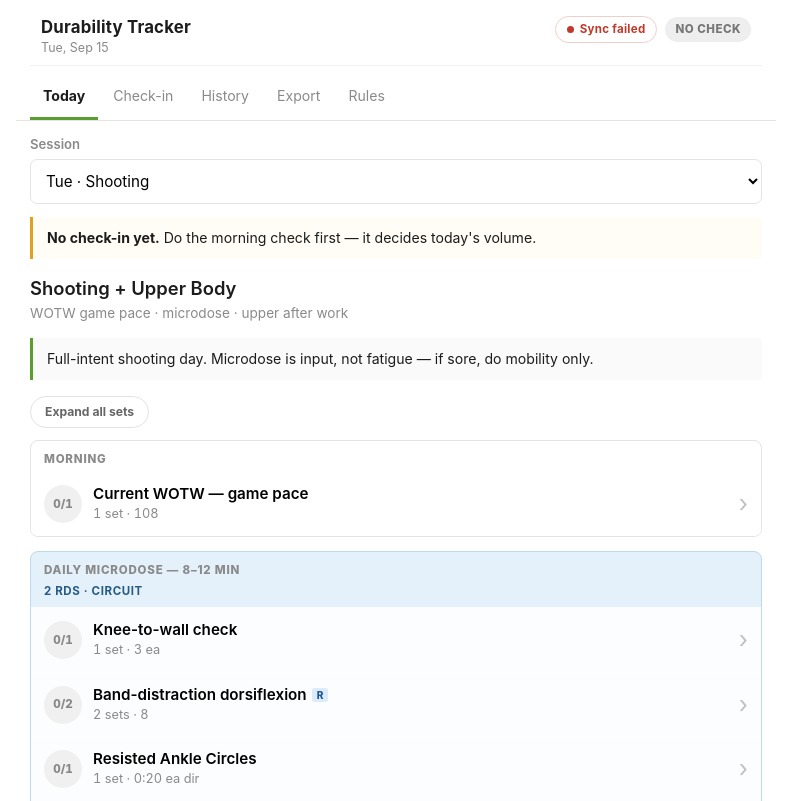
session overview › keeps superset grouping visible in the overview
Select "Mon · Lower A" in the dropdown labelled "Session" at {"x": 396, "y": 181}, box [30,159,762,204]
(page scrolled)
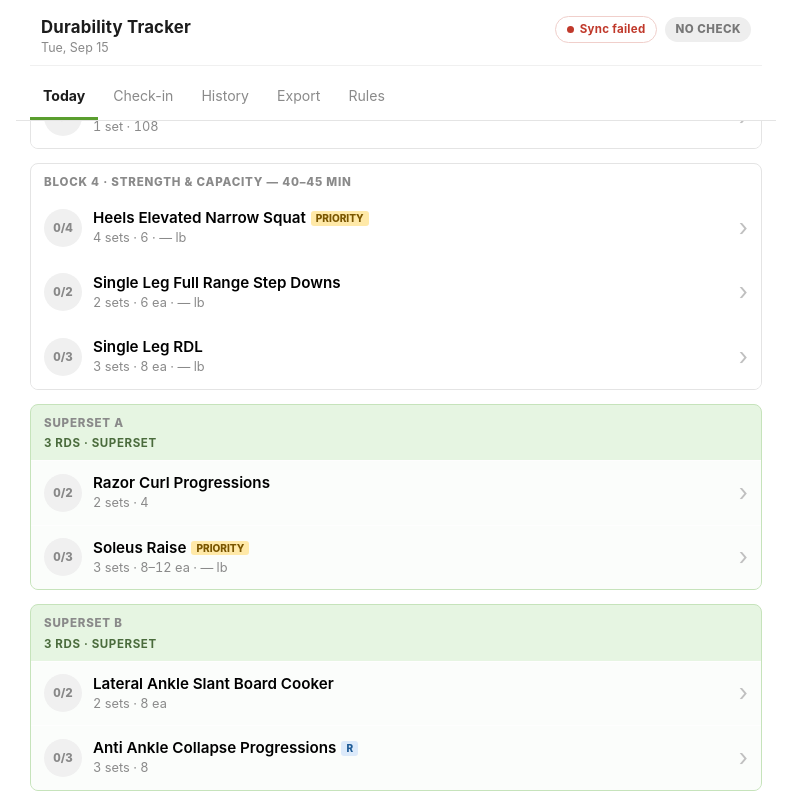
Expected: the element with class "superset" that starts with "Superset A" is shown, [30,404,762,590]
Expected: the text with class "ords" below "Superset A" shows "rds · superset", [44,436,157,450]
